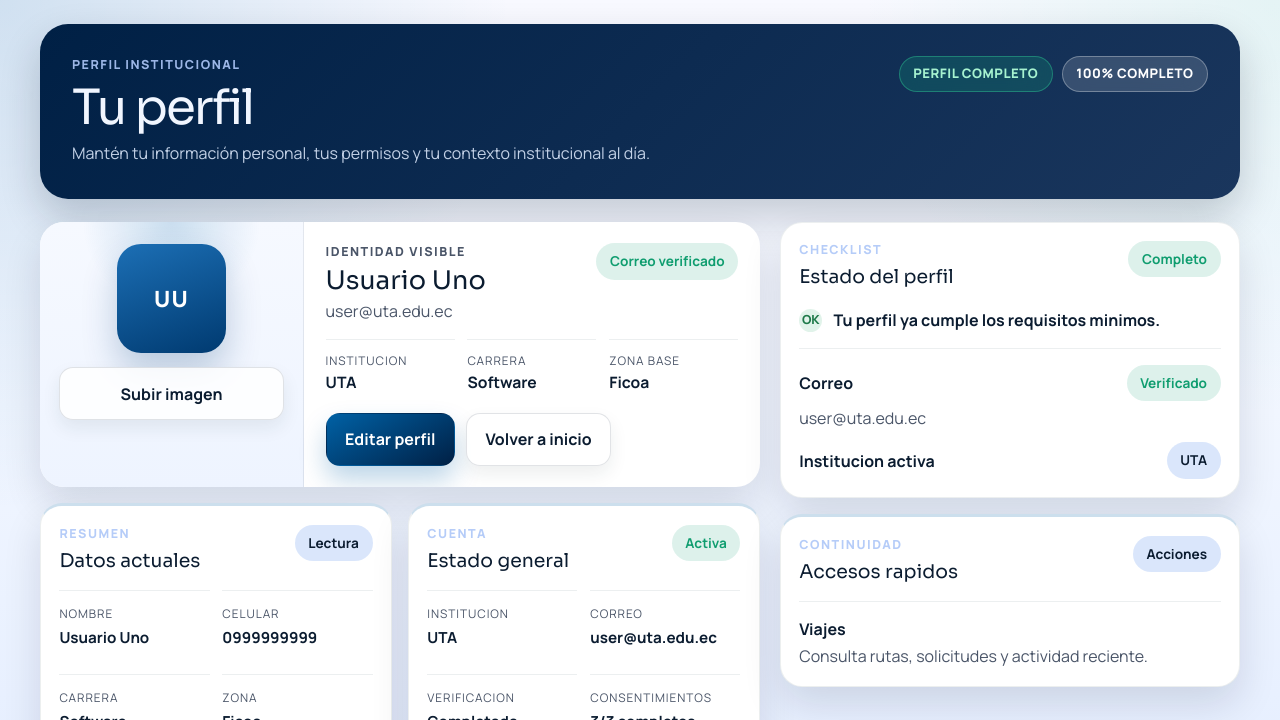
ProfileOnboardingForm › opens the edit modal, submits profile changes and shows a success toast
The image size is (1280, 720).
Click the button "Editar perfil" at (390, 439), box [326, 413, 455, 466]
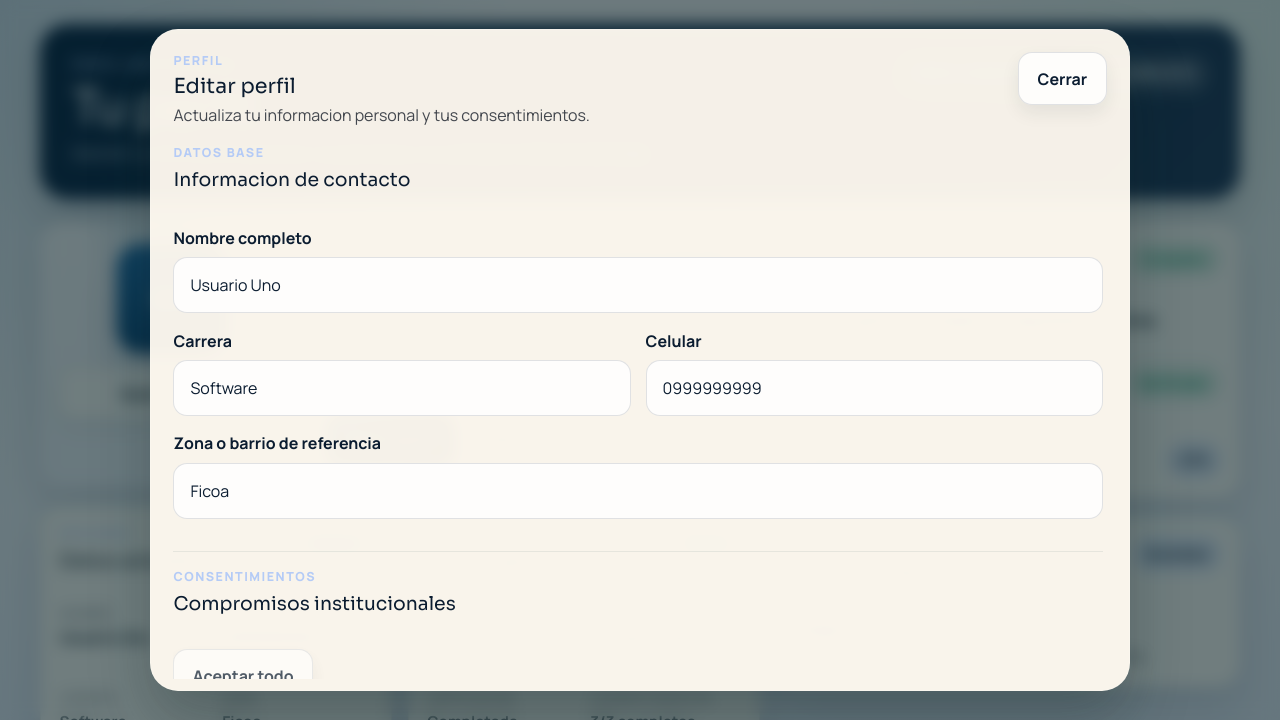
Replace the text in the field labelled "Nombre completo" with "Usuario Editado" at (638, 285), box [173, 257, 1103, 314]
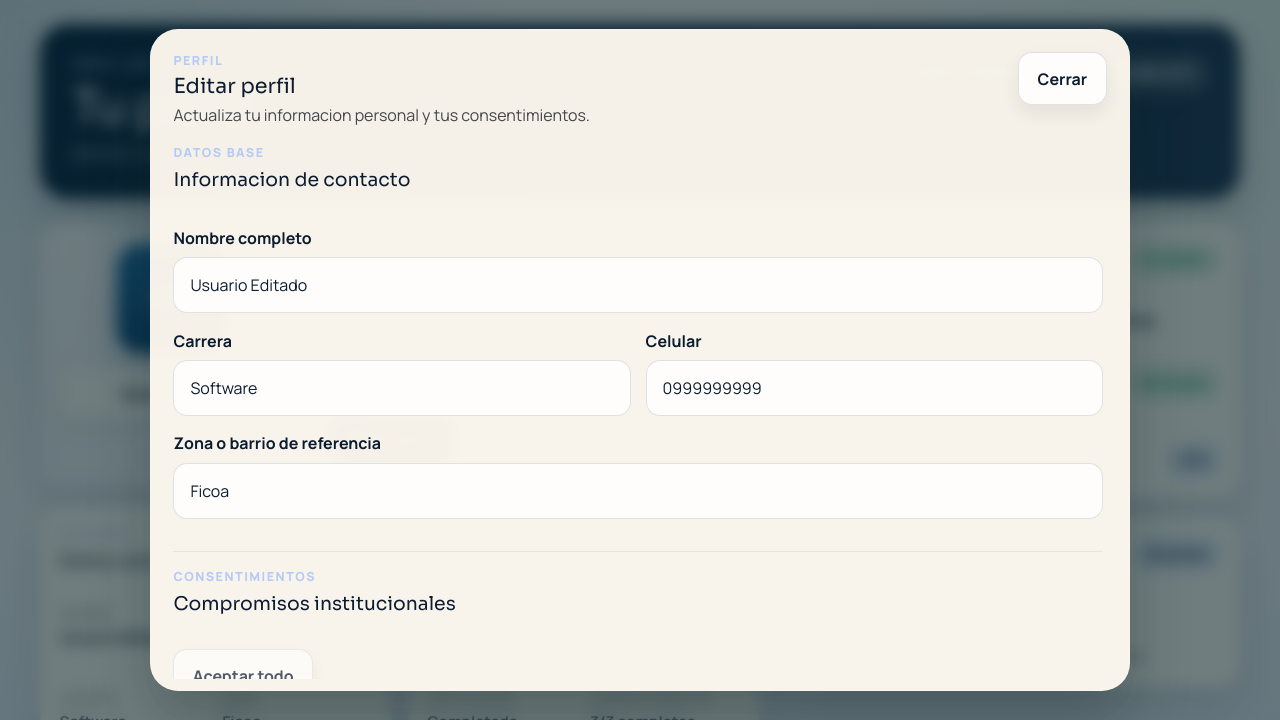
Replace the text in the field labelled "Carrera" with "Tecnologias de la Informacion" at (402, 388), box [173, 360, 631, 416]
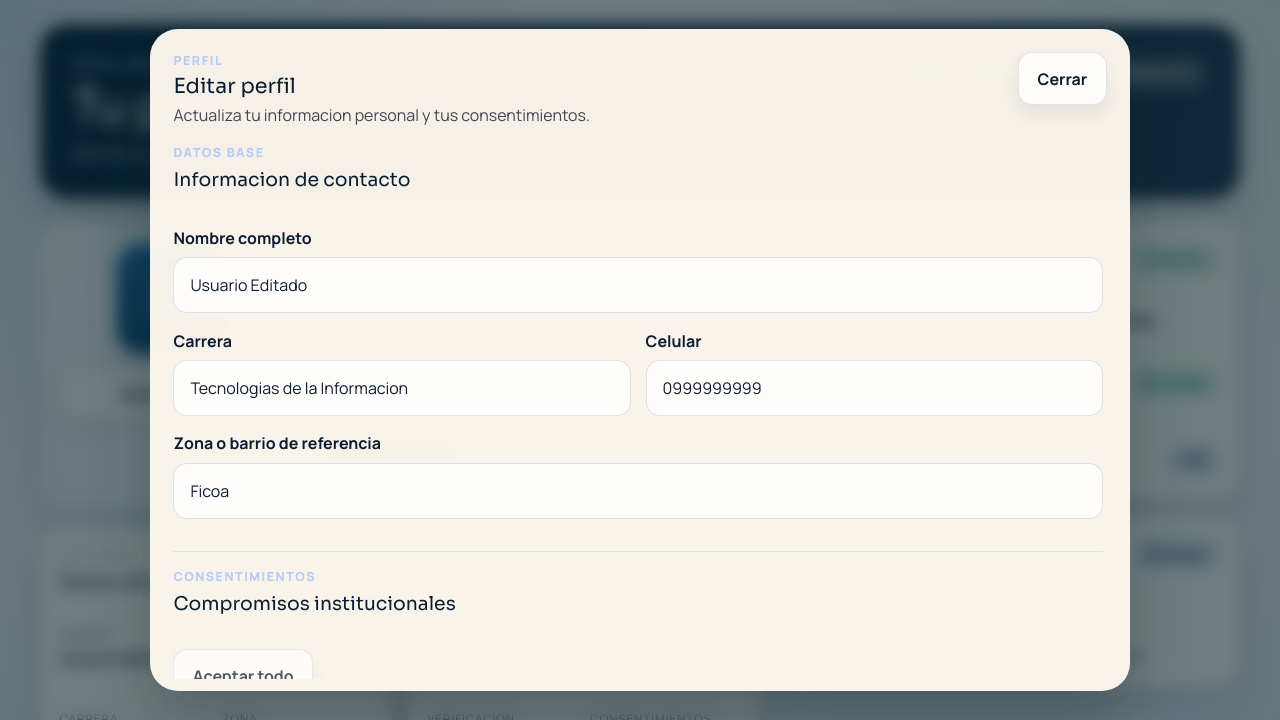
Type "0988888888" into the field labelled "Celular" at (874, 388), box [646, 360, 1103, 416]
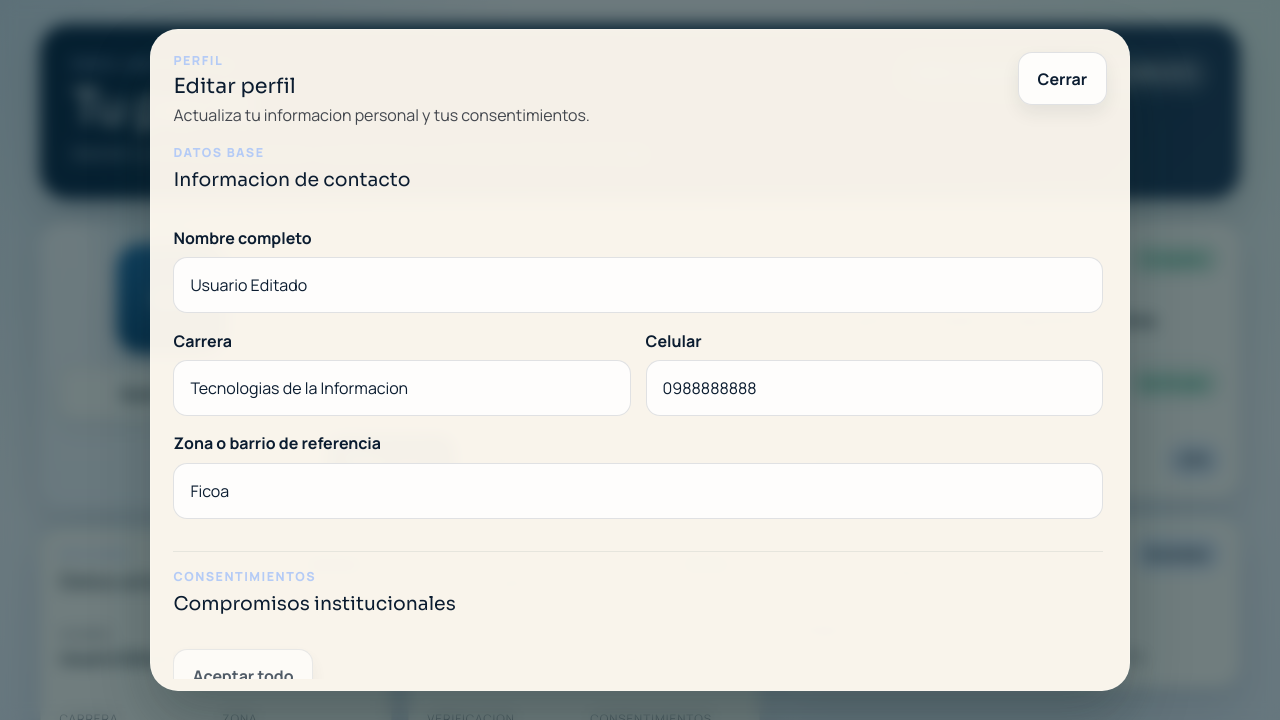
Replace the text in the field labelled "Zona o barrio de referencia" with "Miraflores" at (638, 491), box [173, 463, 1103, 519]
(page scrolled)
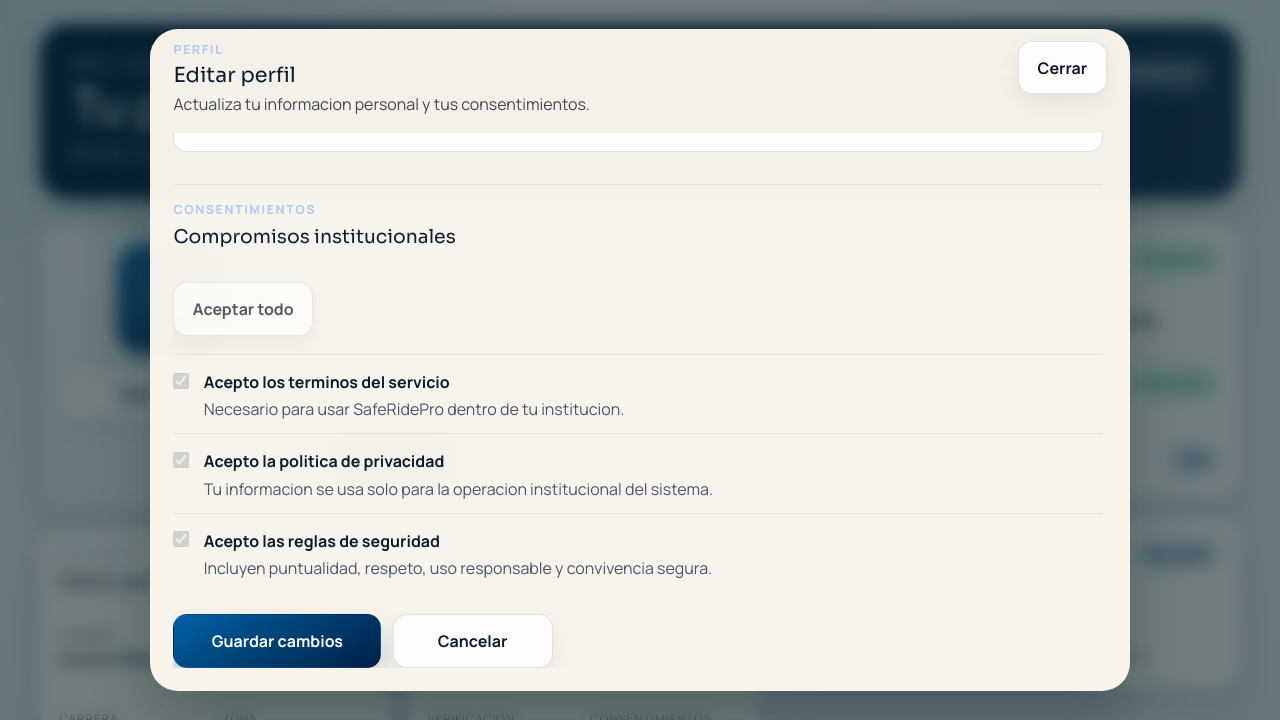
Click the button "Guardar cambios" at (277, 641), box [173, 614, 381, 668]
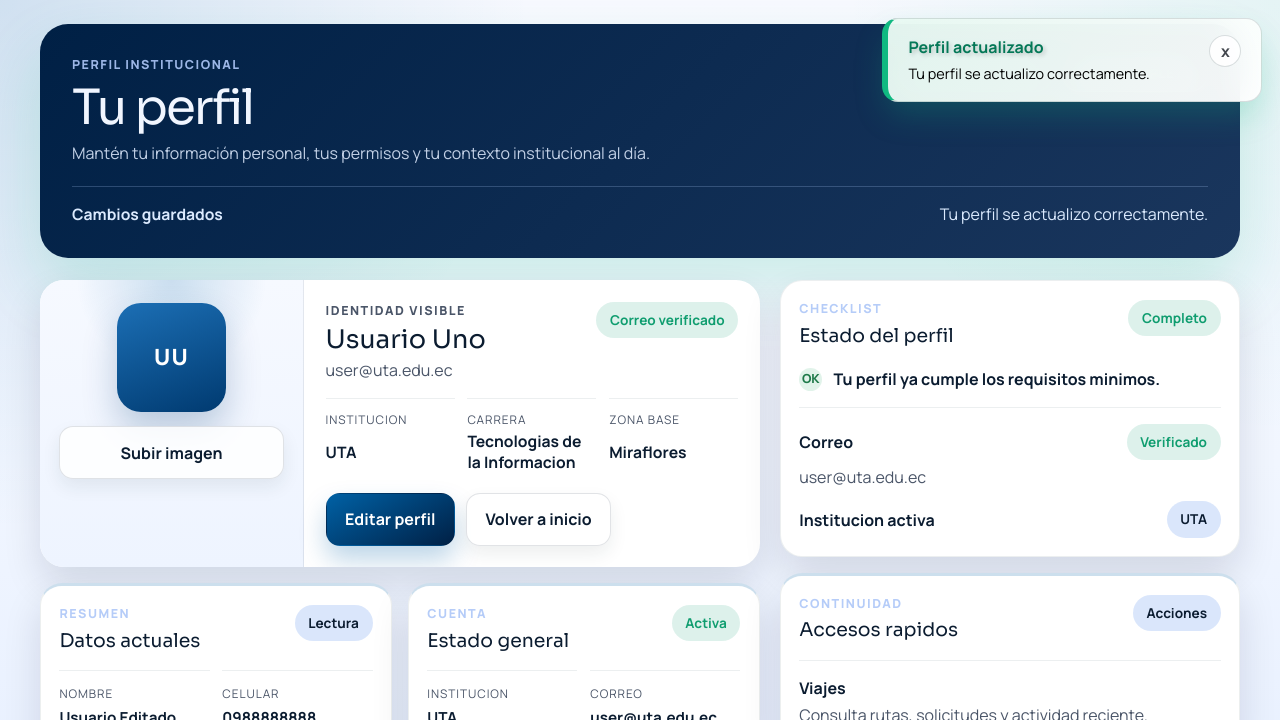
Now the text "Perfil actualizado" is shown, box [908, 36, 1044, 58]
